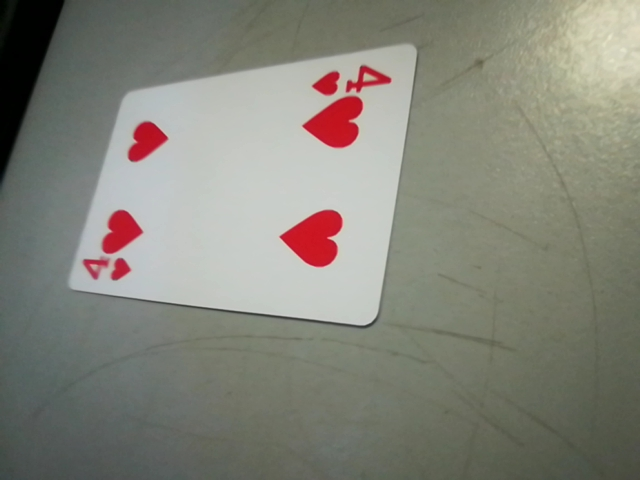hx 4: (301, 63, 396, 101)
